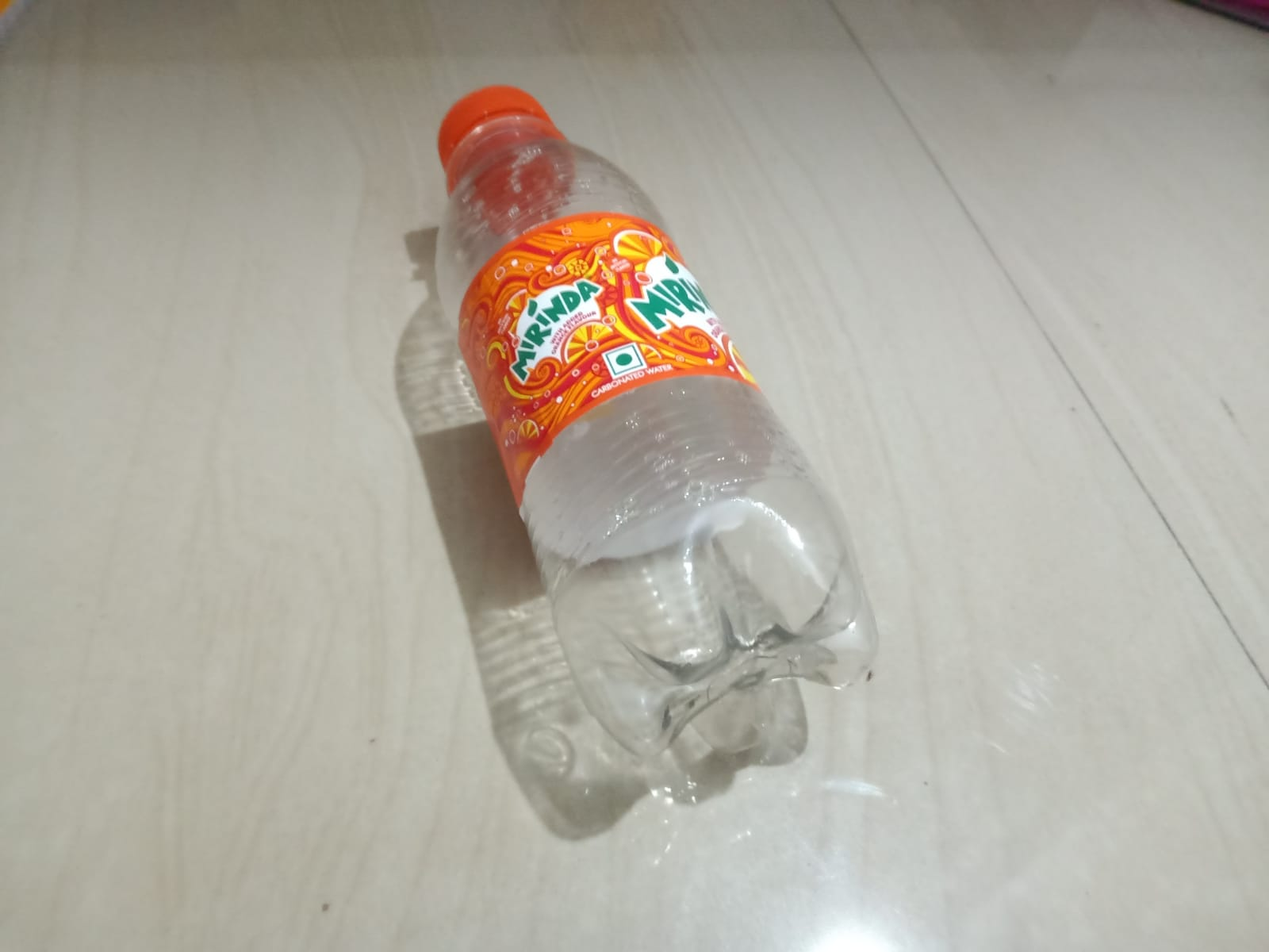plastic: (349, 98, 896, 846)
